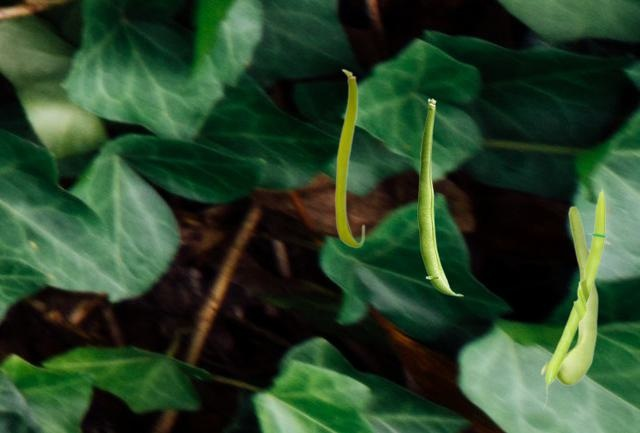french_bean: (542, 186, 607, 409), (540, 205, 597, 384), (417, 98, 463, 295), (334, 68, 364, 247)
